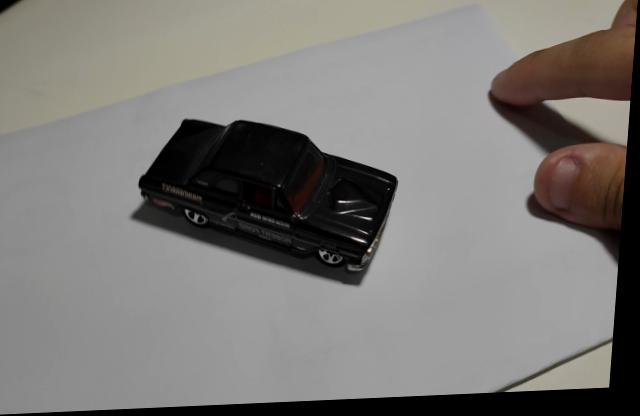01_FORD: (141, 122, 397, 291)
